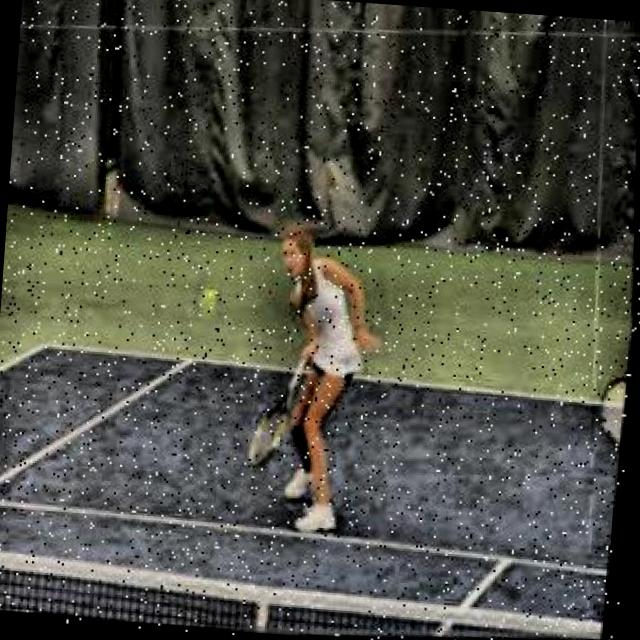Tennis Ball: (201, 291, 222, 316)
